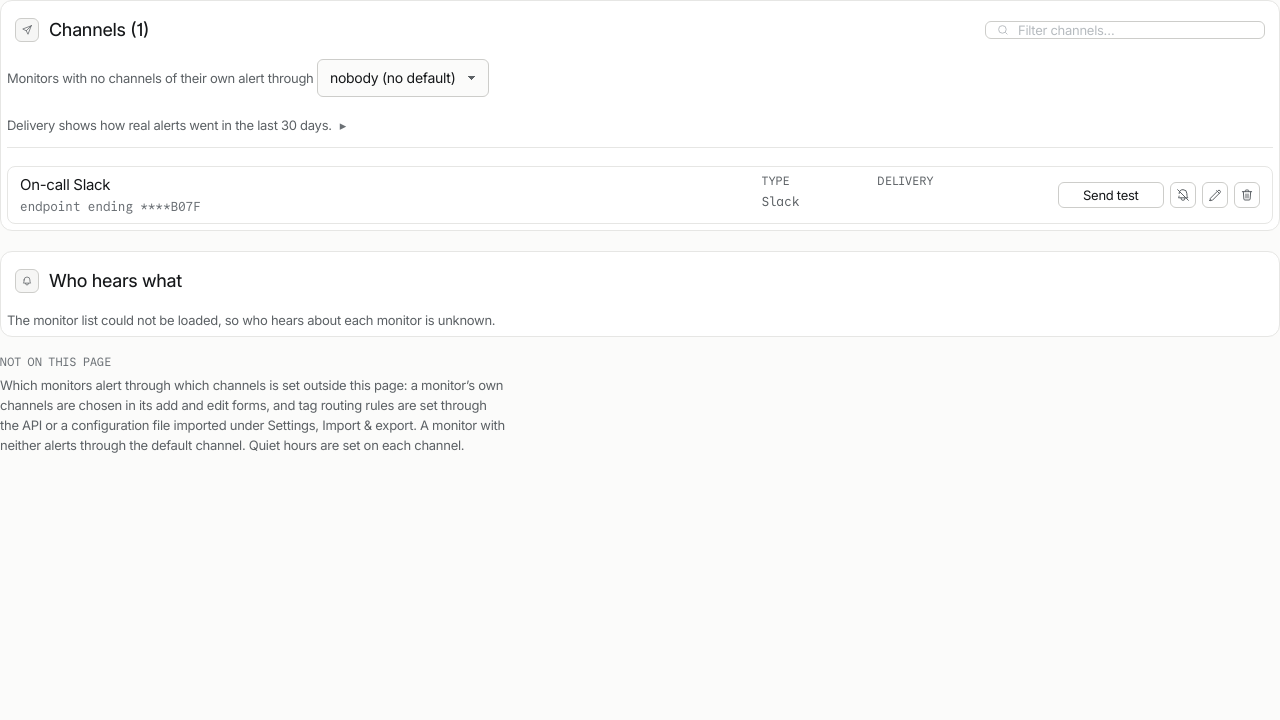
Scenario: LiveNotifications › drops a test result when the channel is edited
This screenshot has width=1280, height=720.
Click the button "Send test" at [1111, 195], box [1058, 182, 1164, 208]
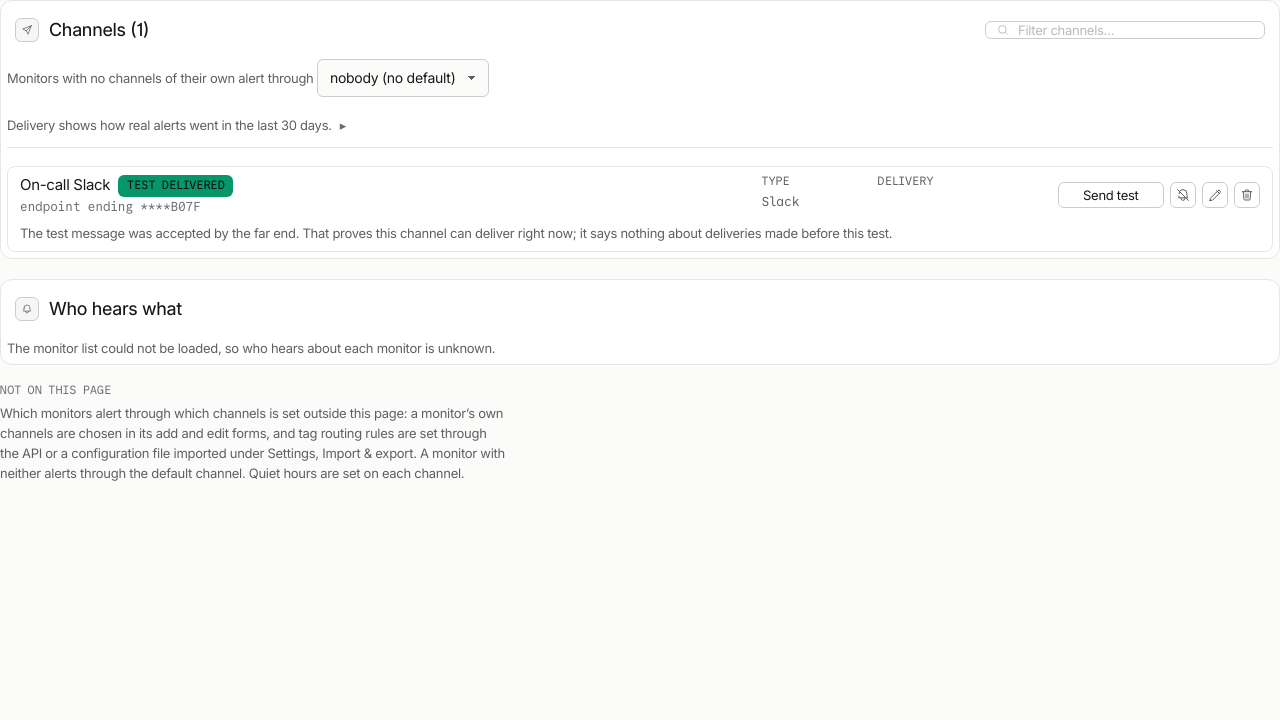
Now the text "Test delivered" is shown, box [118, 175, 233, 197]
Click the button named "Edit" at [1215, 195], box [1202, 182, 1228, 208]
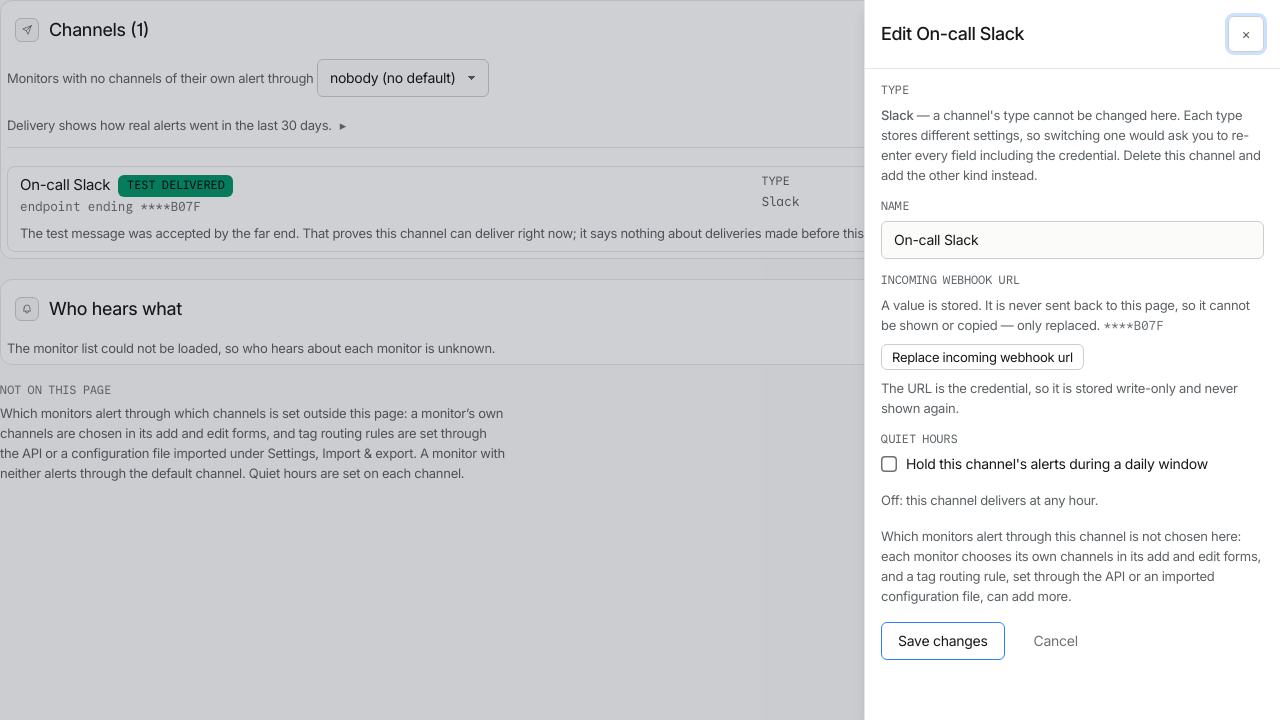
Click the button "Save changes" at [943, 641], box [881, 622, 1004, 660]
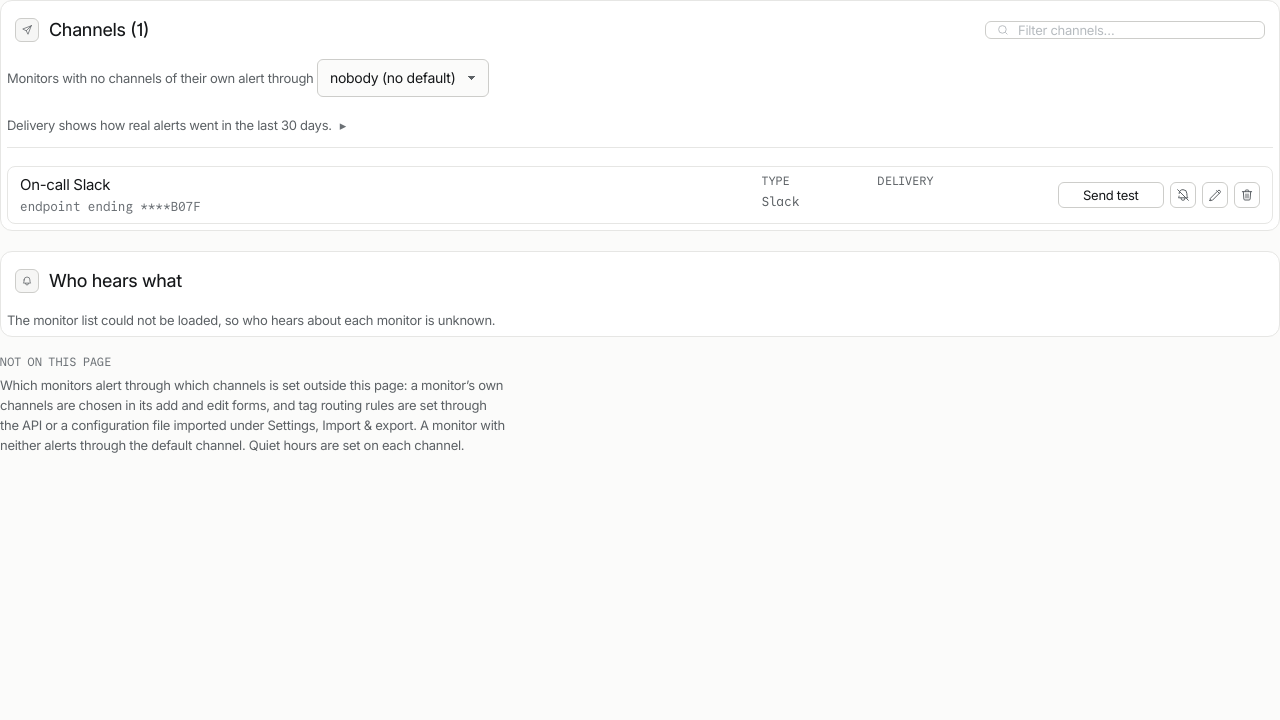
Now the text "Test delivered" is gone
